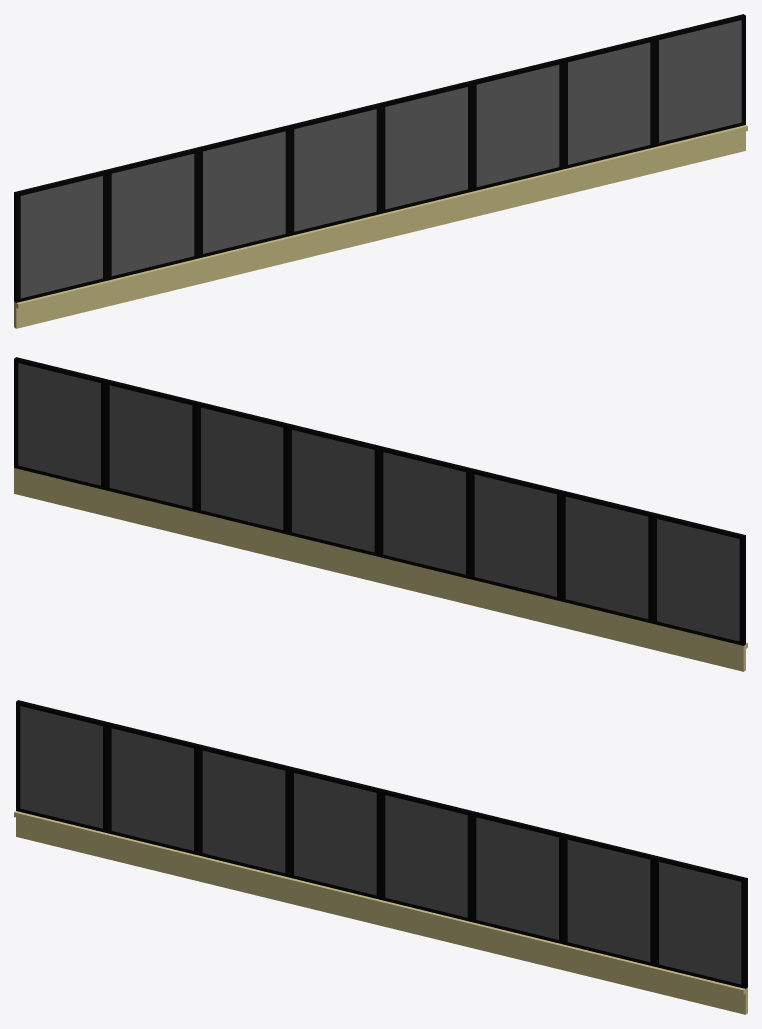
File: windows.fbx
The picture shows the model from 3 angles, top to bottom: view 1: azimuth 30°, elevation 25°; view 2: azimuth 150°, elevation 25°; view 3: azimuth 330°, elevation 25°; orthographic projection.
Visible parts, largest first — view 1: Cube; view 2: Cube; view 3: Cube.
Boxes of the visible parts, x1,y1,x2,y2 form: Cube: (14,14,747,328); Cube: (14,357,747,671); Cube: (14,700,747,1014).
Size of the model in its own units: 1600 by 283 by 16.1.
